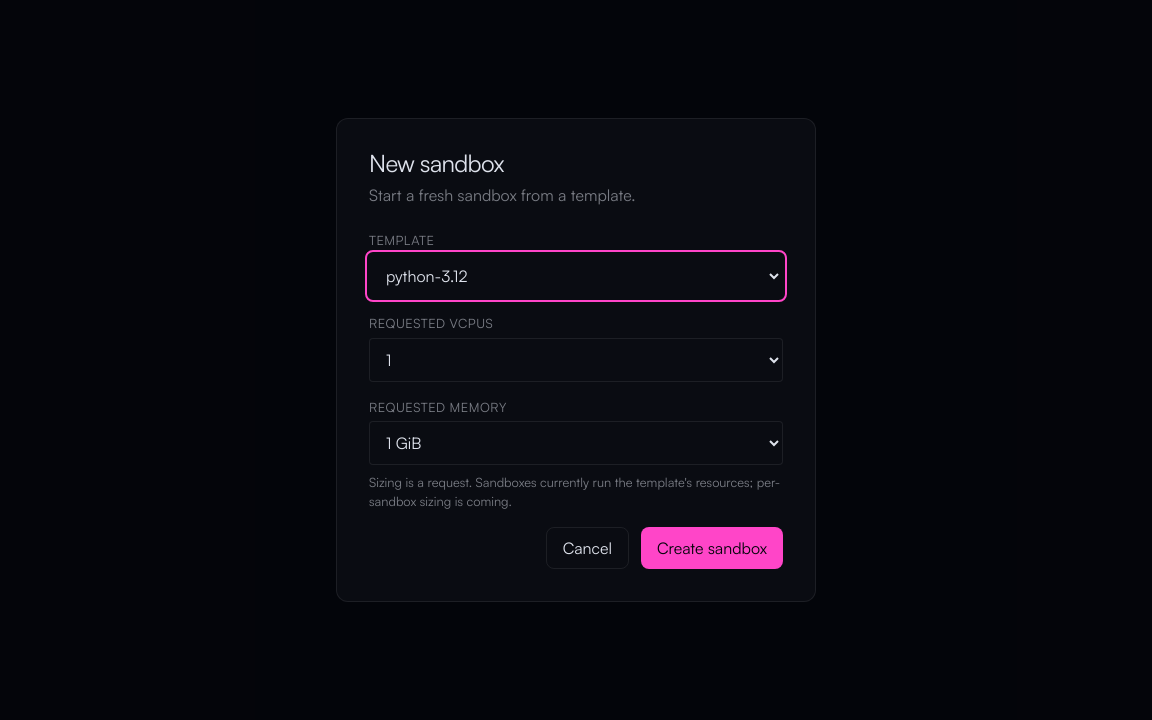
Test: NewSandboxModal › shows an inline error and does not close when the server rejects
Expected: the dropdown labelled "Template" shows "python-3.12", 369,254 -> 783,298
Click the button "Create sandbox". click: click(712, 548)
box: 641,527 -> 783,569
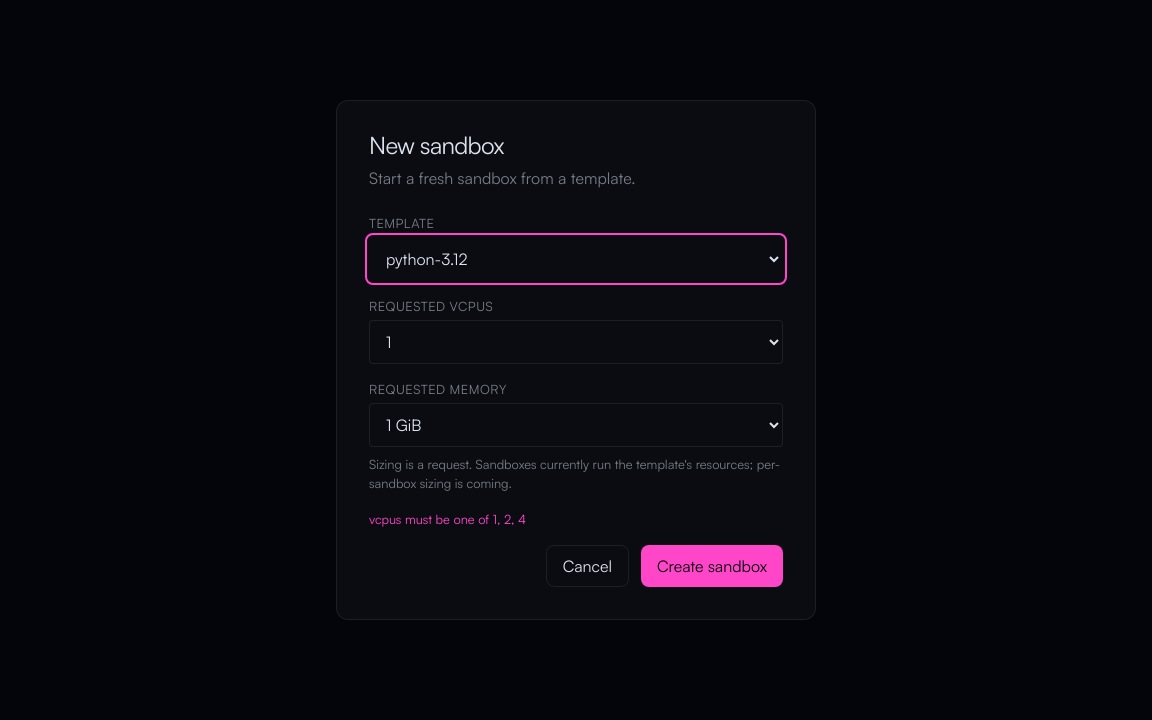
Expected: the message reads "vcpus must be one of 1, 2, 4", 369,511 -> 526,527
